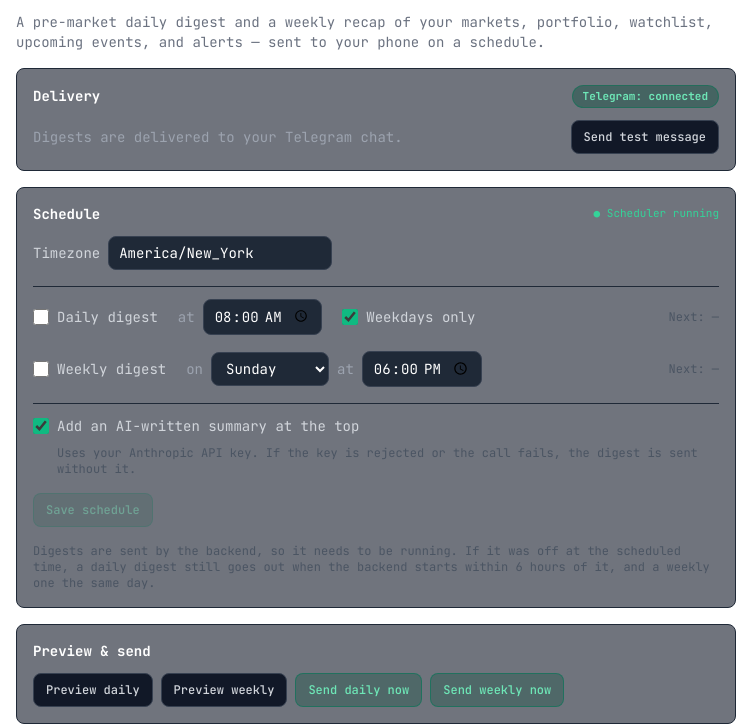
Test case: DigestCenter › shows connected state, enables sending, and sends a test message
Check: the text "Telegram: connected" is shown, box x1=572 y1=85 x2=719 y2=108
Check: the button "Send daily now" is enabled, box x1=295 y1=672 x2=422 y2=706
Click the button "Send test message" at (645, 136), box x1=571 y1=120 x2=719 y2=154
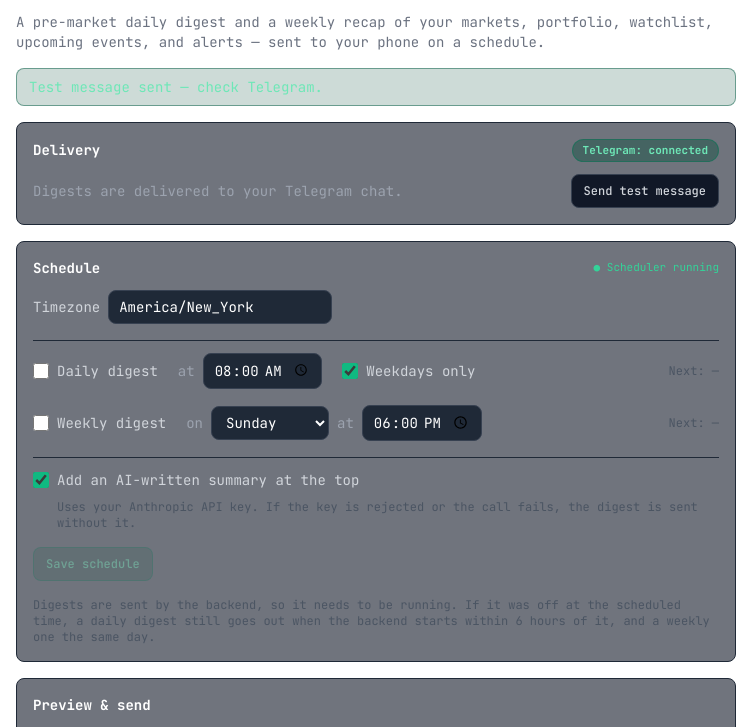
Check: the text "Test message sent — check Telegram." is shown, box x1=16 y1=68 x2=736 y2=106
